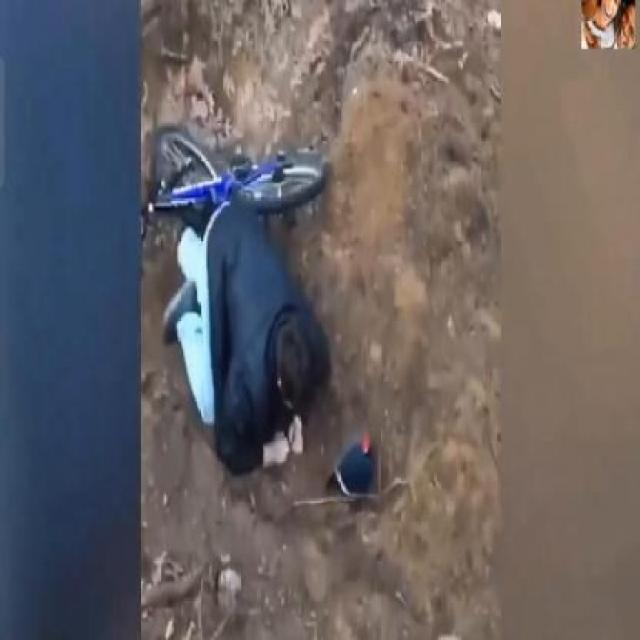fall: (172, 200, 328, 472)
